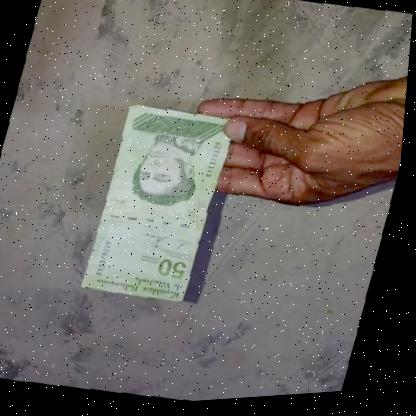fifty-front-vef: (80, 100, 240, 310)
